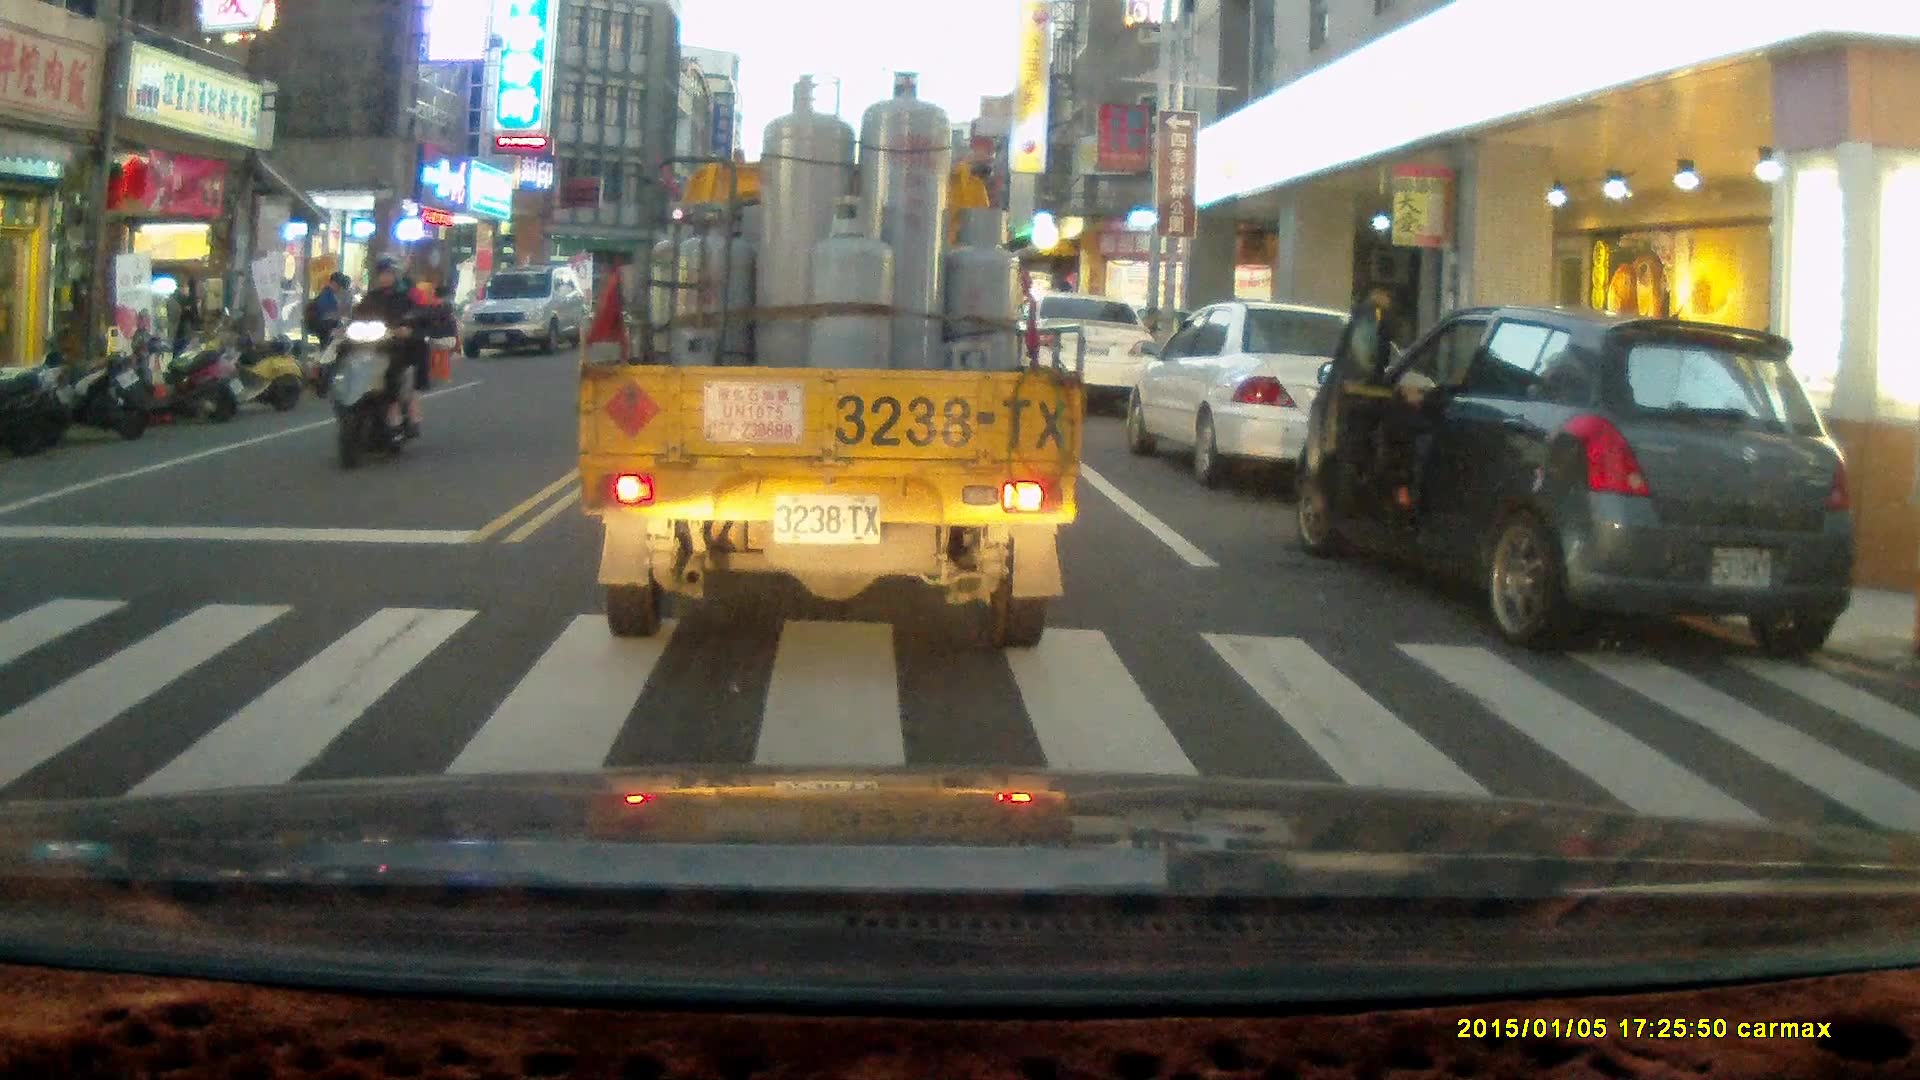pedestrian: (311, 273, 349, 391), (160, 280, 196, 392), (424, 284, 461, 383)
rider: (329, 254, 433, 469)
vehicle: (574, 64, 1076, 647), (1290, 311, 1858, 668), (1127, 305, 1429, 489), (1026, 295, 1160, 413), (459, 270, 590, 364)
